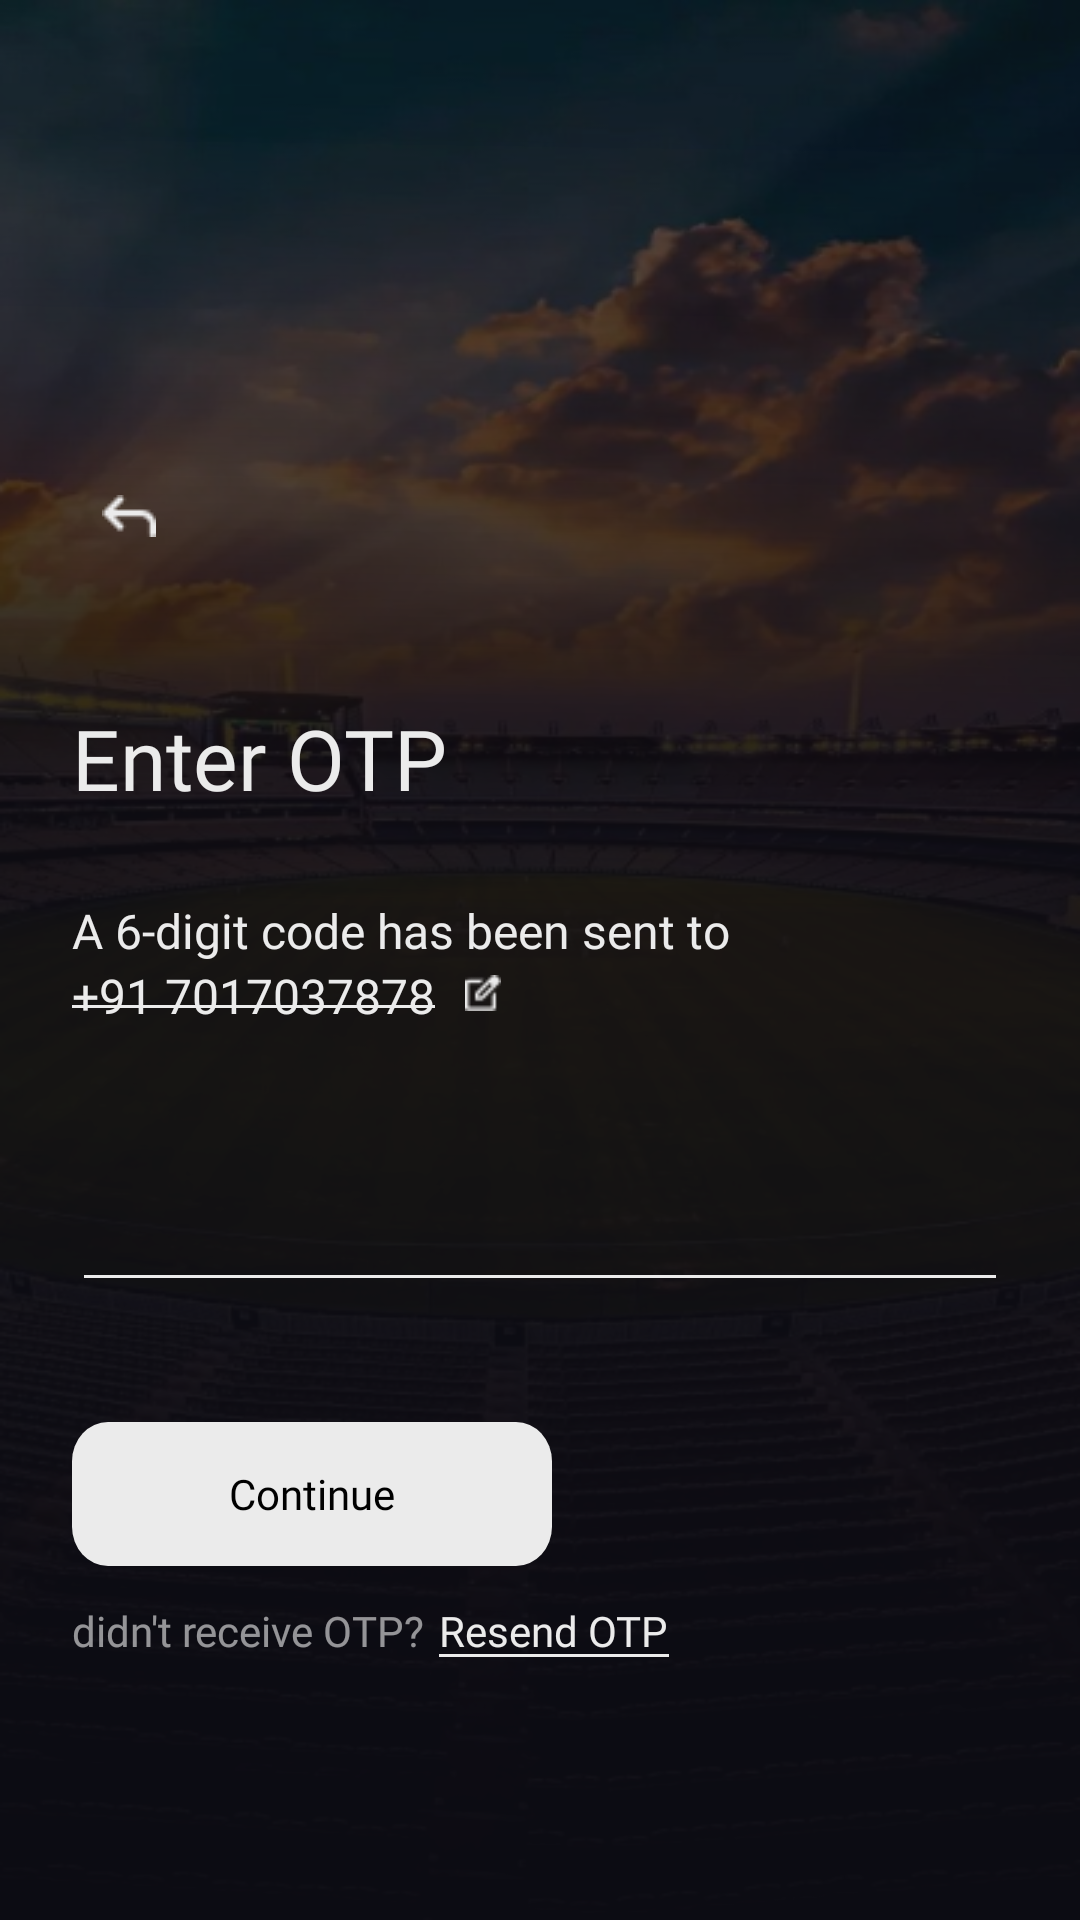

Icon bounding boxes for this 1080 x 1920 phone screenshot, format (x1, y1, x2, y2):
back: (102, 495, 156, 537)
edit square: (465, 975, 501, 1011)
